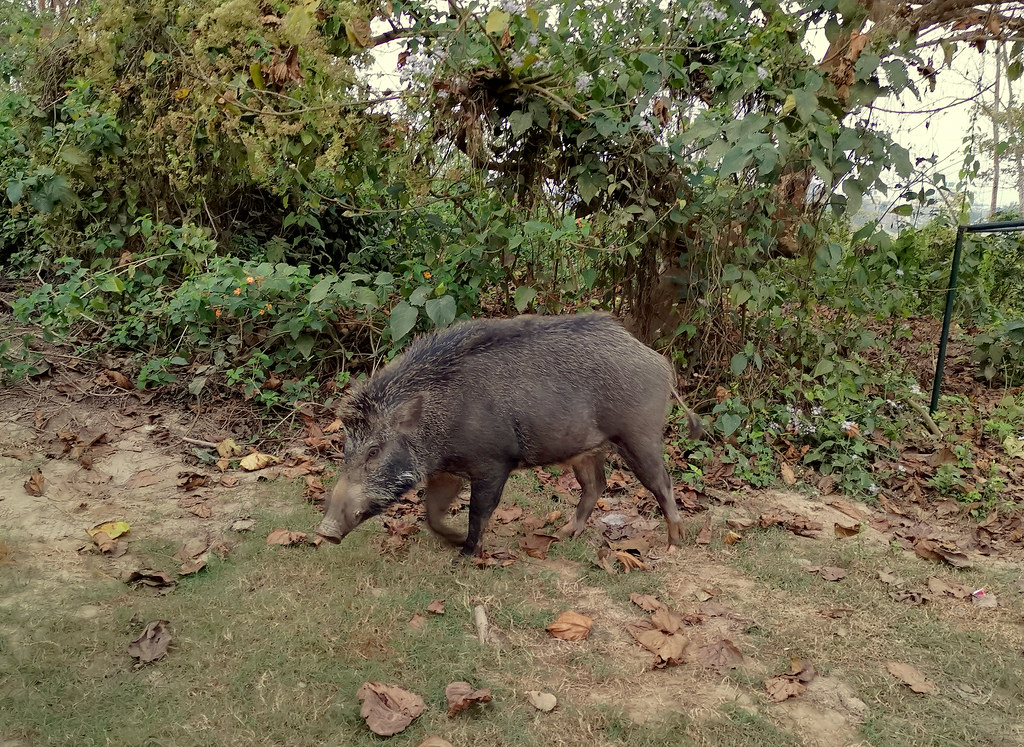wild boar: (289, 303, 715, 582)
